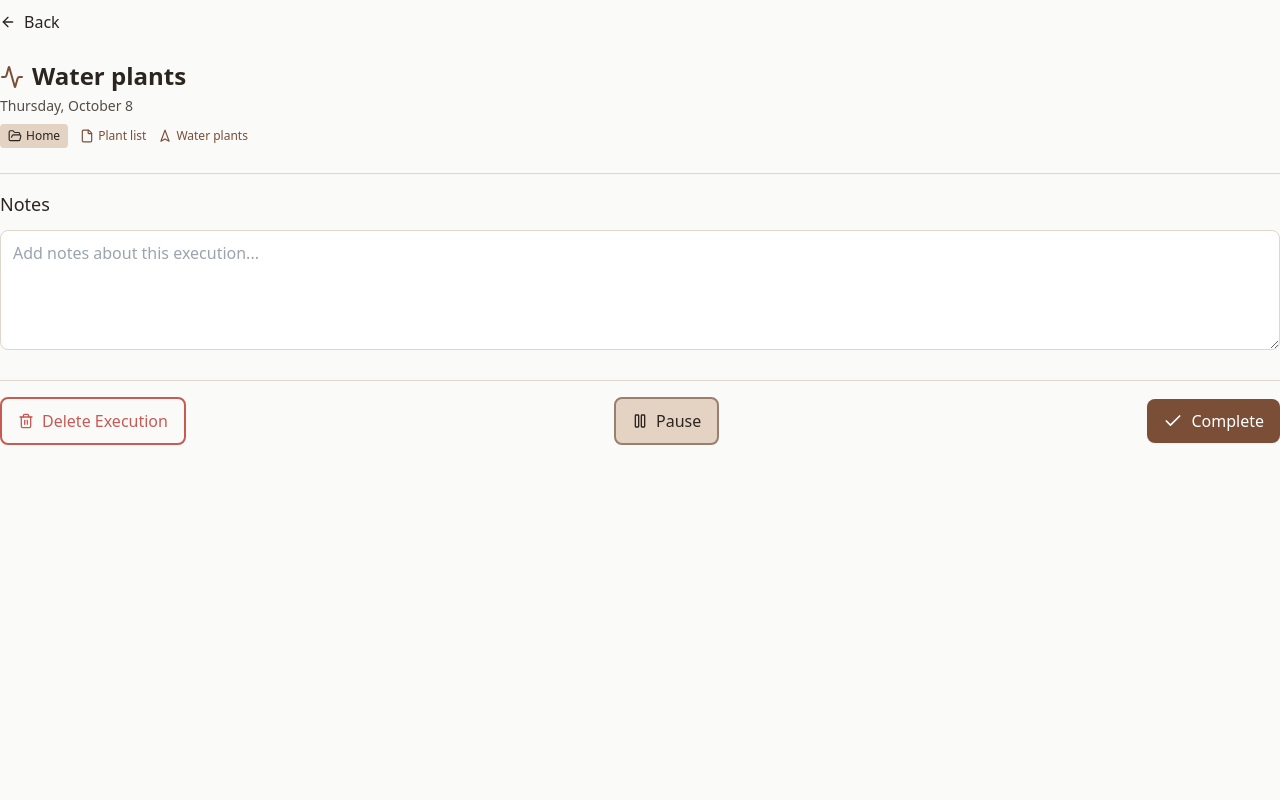
Scenario: a failed note save keeps the dialog open and does not complete
Expected: the text box with placeholder "Add notes about this execution..." is shown, [0, 230, 1279, 350]
Click the button "Complete" at (1214, 421), box [1147, 399, 1279, 443]
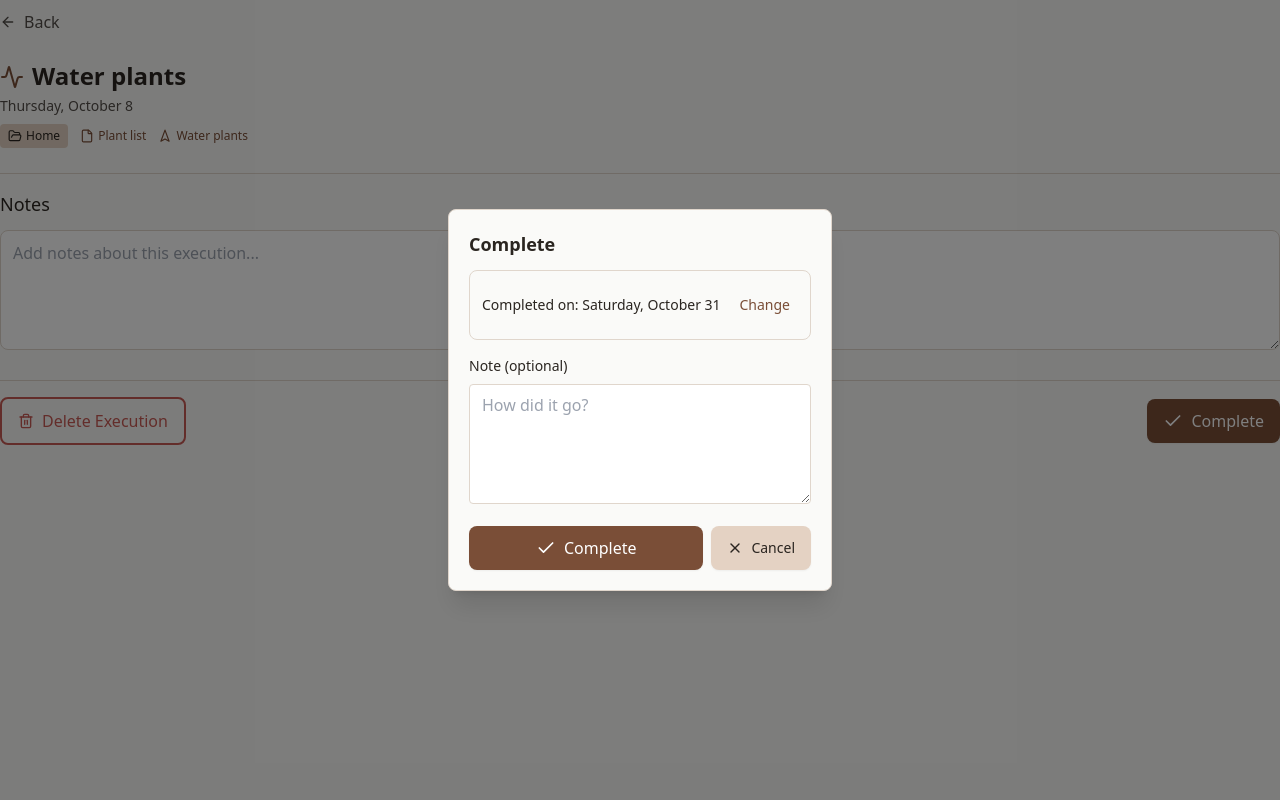
Type "x" into the text box labelled "Note (optional)" at (640, 444), box [469, 384, 811, 504]
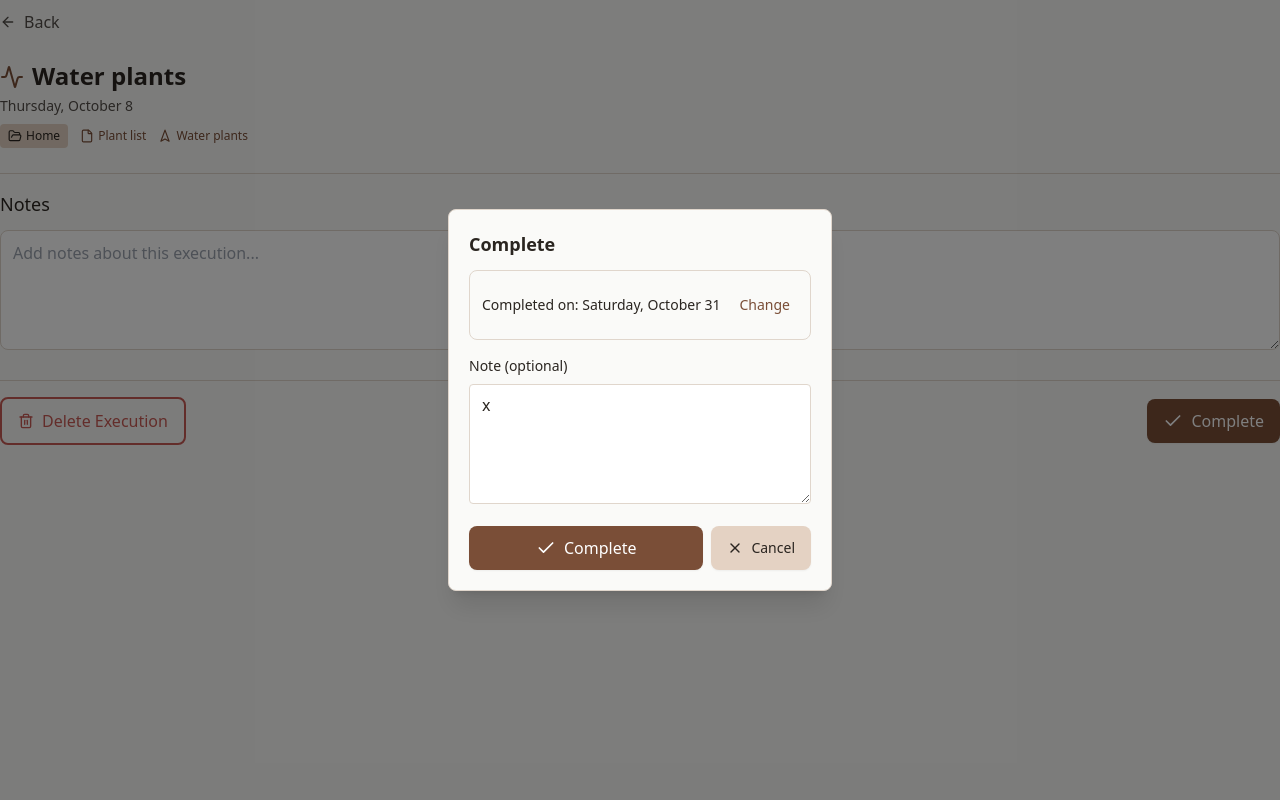
Click the button "Complete" at (586, 548), box [469, 526, 703, 570]
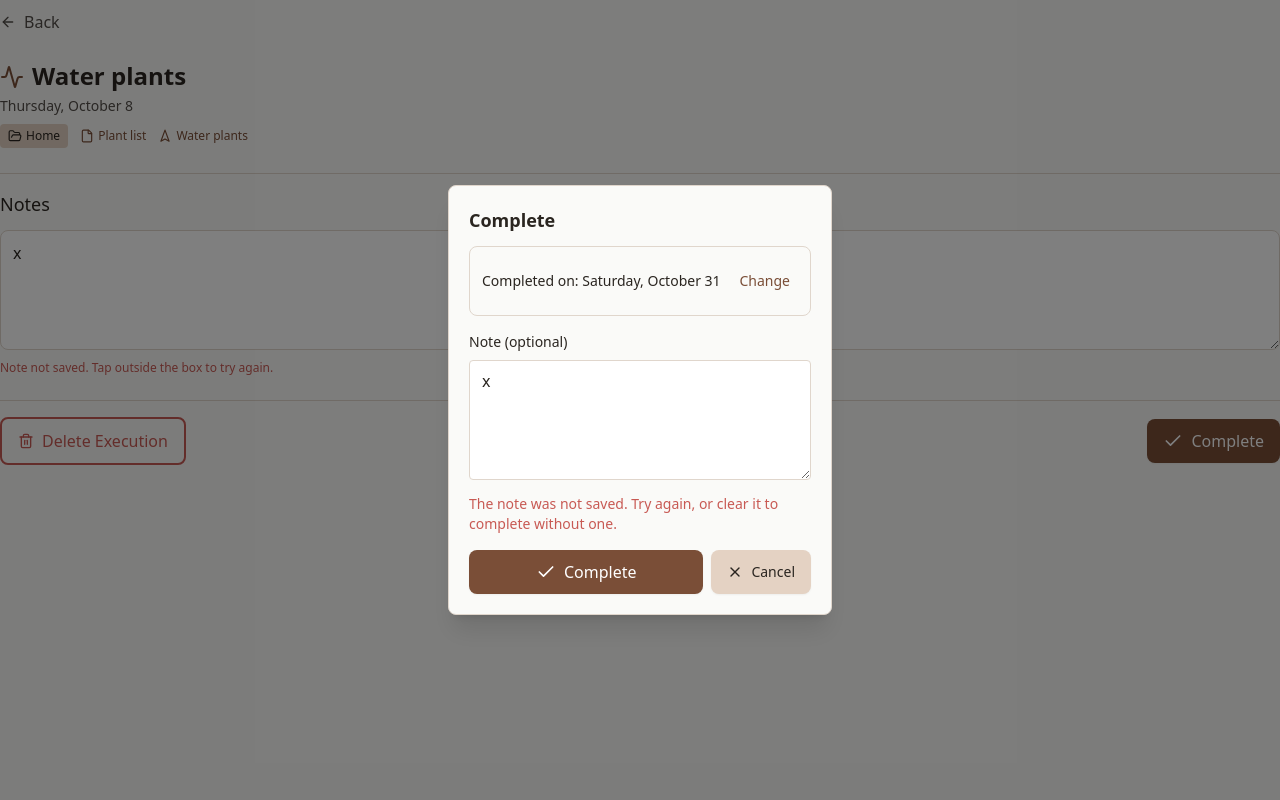
Now the text "The note was not saved" is shown, box [469, 494, 778, 533]
